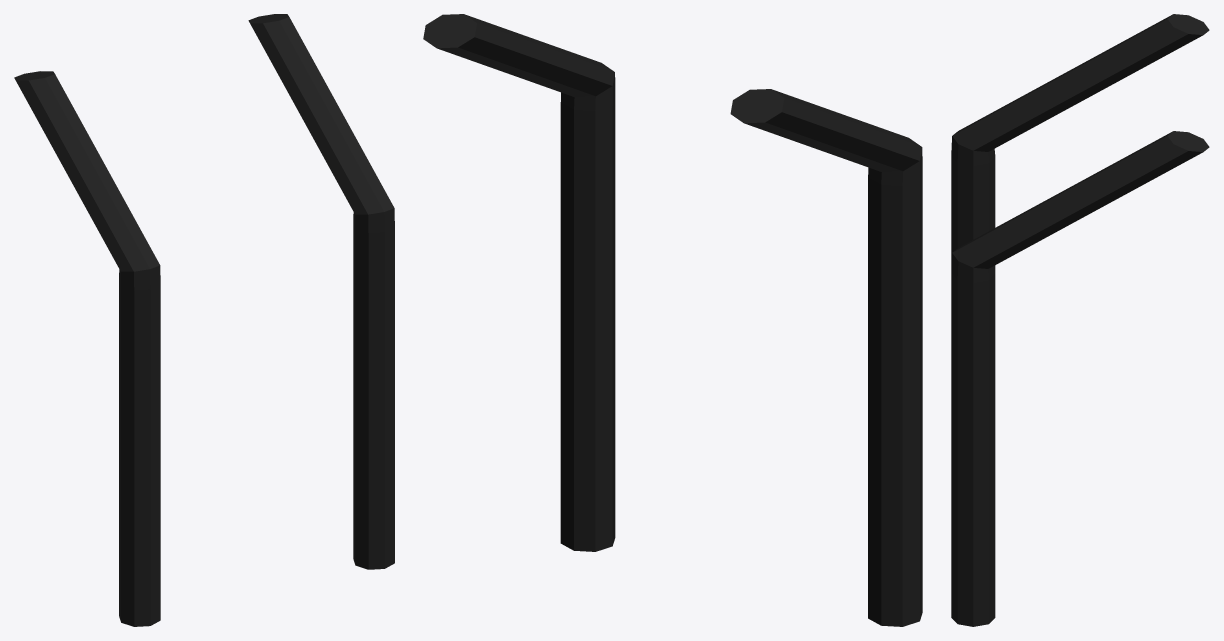
The model's file is exhaust3.glb.
3 renders of one model, left to right at view 1: azimuth 30°, elevation 25°; view 2: azimuth 150°, elevation 25°; view 3: azimuth 270°, elevation 25°, orthographic. The views are drawn at different scales.
Parts seen in each view (by area): view 1: exhaust3; view 2: exhaust3; view 3: exhaust3.
Part boxes in pixels (x1=…): exhaust3: x1=14, y1=14, x2=394, y2=626; exhaust3: x1=423, y1=14, x2=922, y2=626; exhaust3: x1=951, y1=14, x2=1209, y2=626.
Bounding box in the file's own units: 1.29 × 2.13 × 1.04.
1 material, 1 textured.
